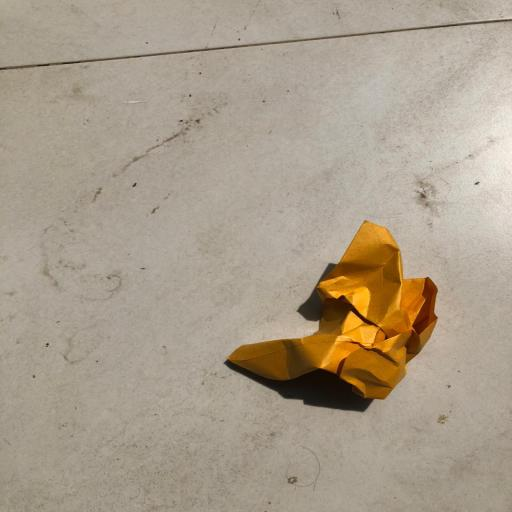waste: (206, 199, 456, 407)
